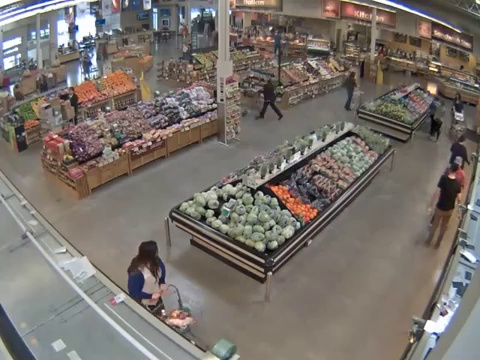face: (69, 88, 74, 94), (456, 94, 460, 99)
